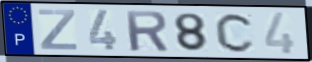4: (262, 11, 298, 56), (86, 8, 119, 53)
8: (171, 11, 211, 52)
C: (214, 11, 257, 54)
R: (123, 9, 171, 53)
Z: (36, 9, 79, 52)
